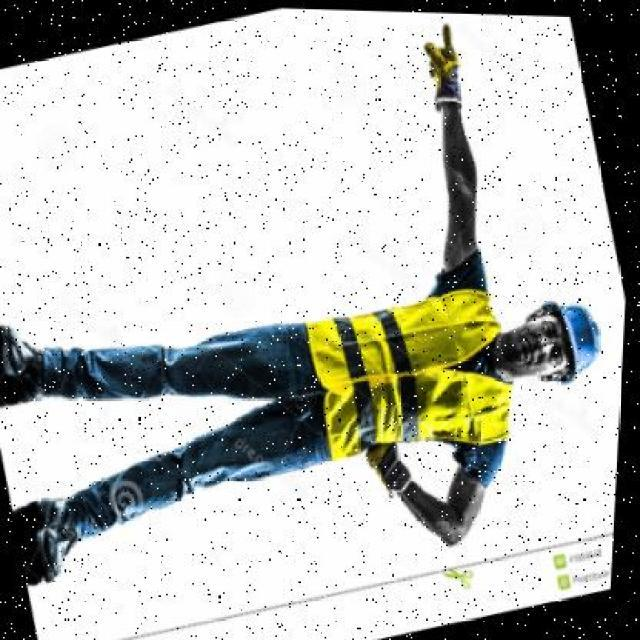helmet: (535, 265, 623, 403)
vest: (273, 251, 535, 497)
